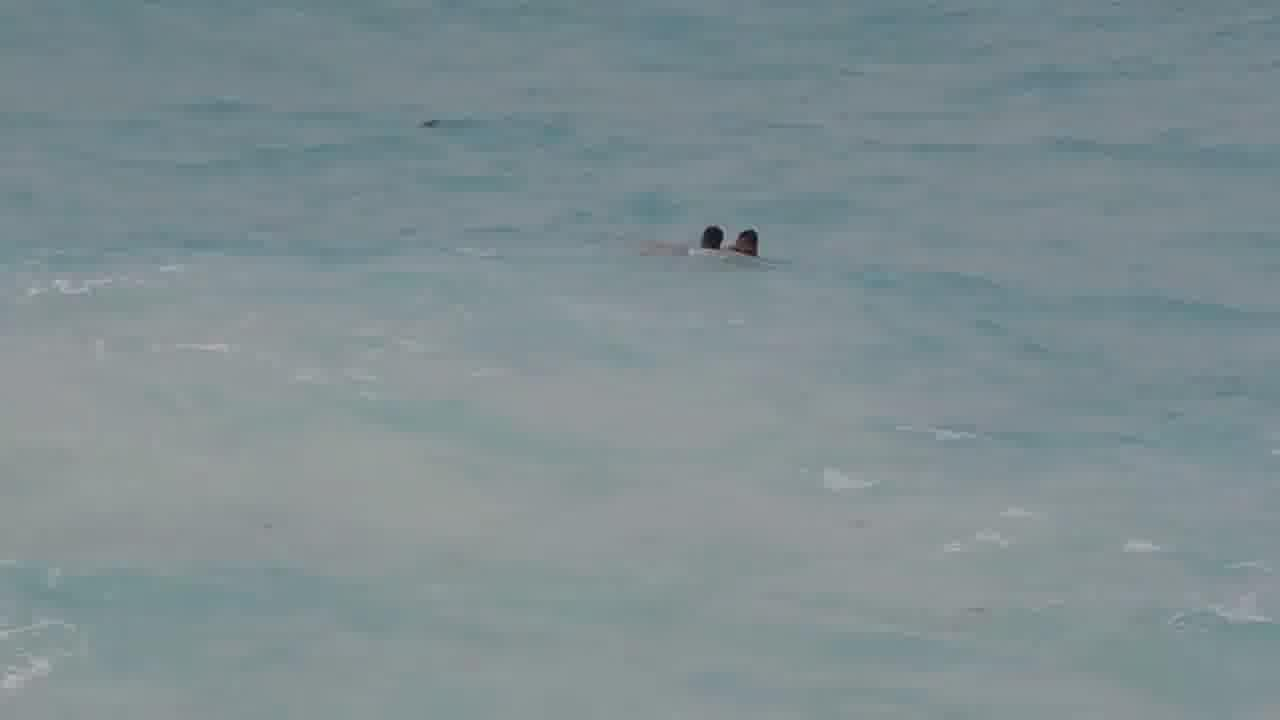human: (652, 216, 728, 258), (727, 220, 779, 268)
